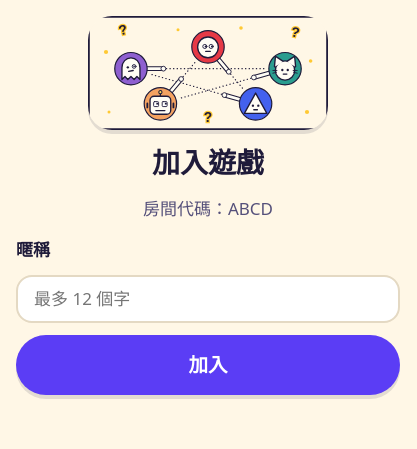
join form › shows the NICKNAME_EMPTY message under the field
Type "小明" into the field labelled "暱稱" at (208, 299), box [16, 275, 400, 323]
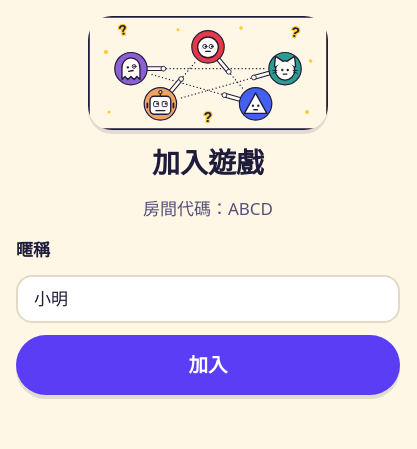
Click the button "加入" at (208, 365), box [16, 335, 400, 395]
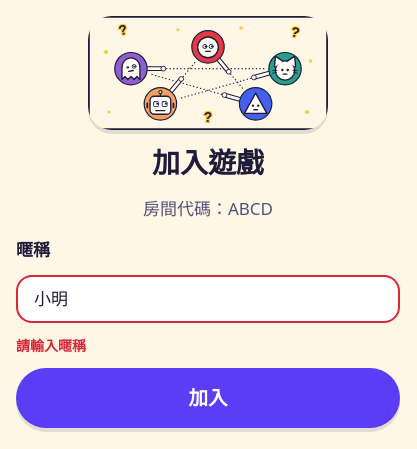
Expected: the button "加入" is shown, [16, 368, 400, 428]
Now the message reads "請輸入暱稱", box [16, 336, 86, 355]
